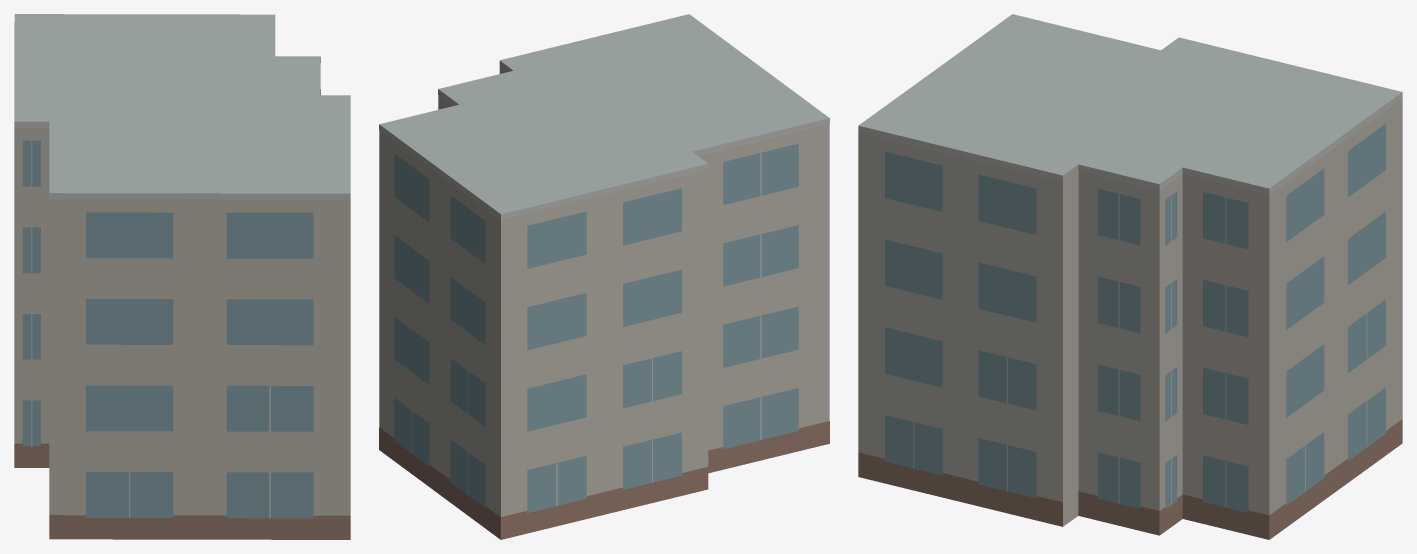
File: survey-upis-32825772.glb
The picture shows the model from 3 angles, left to right: view 1: azimuth 30°, elevation 25°; view 2: azimuth 150°, elevation 25°; view 3: azimuth 270°, elevation 25°; orthographic projection. The views are drawn at different scales.
Parts seen in each view (by area): view 1: survey-upis-32825772.tmp; view 2: survey-upis-32825772.tmp; view 3: survey-upis-32825772.tmp.
Boxes of the visible parts, x1,y1,x2,y2 form: survey-upis-32825772.tmp: (14,14,350,539); survey-upis-32825772.tmp: (379,14,829,539); survey-upis-32825772.tmp: (858,14,1402,539).
Size of the model in its own units: 14.13 by 13.25 by 18.61.
